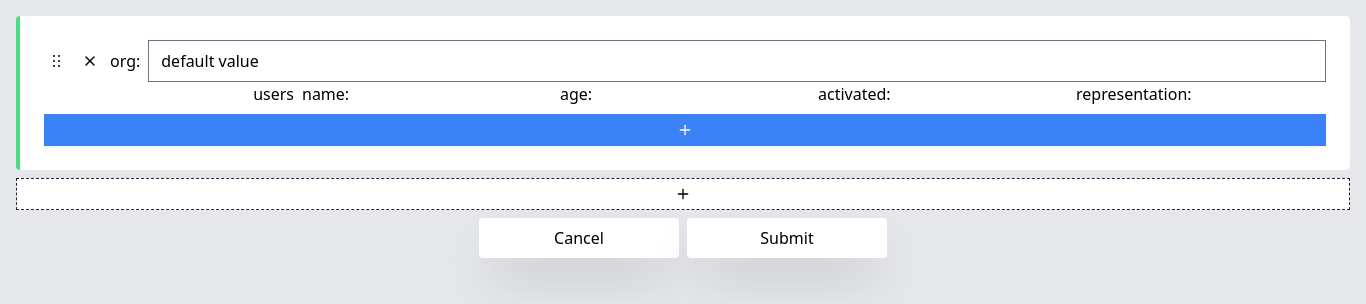
Test case: test cancel form would restore to defaultValues
The image size is (1366, 304).
Replace the text in the field with "new value" at (737, 61), box [148,40,1326,82]
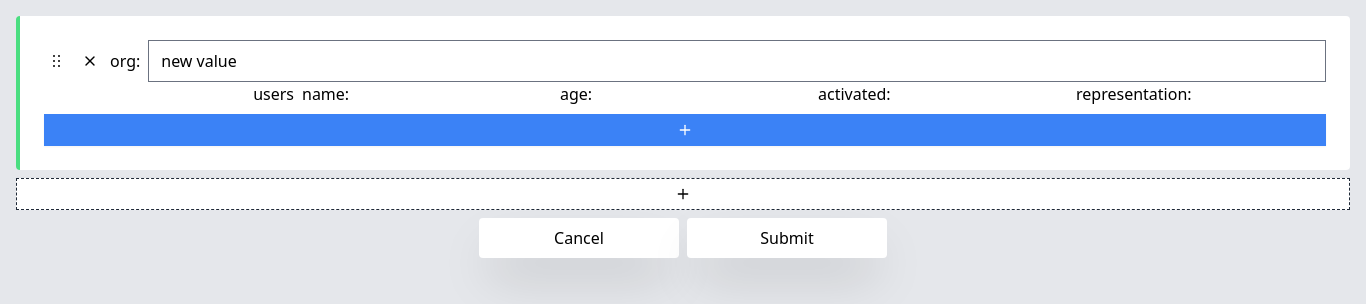
Click the button "Cancel".
click(579, 238)  # box [479,218,679,258]
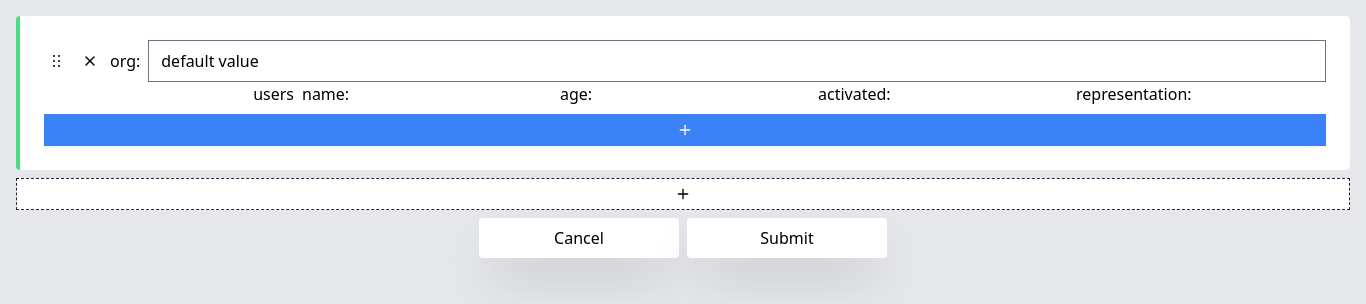
Check: the field holds "default value", box [148,40,1326,82]
